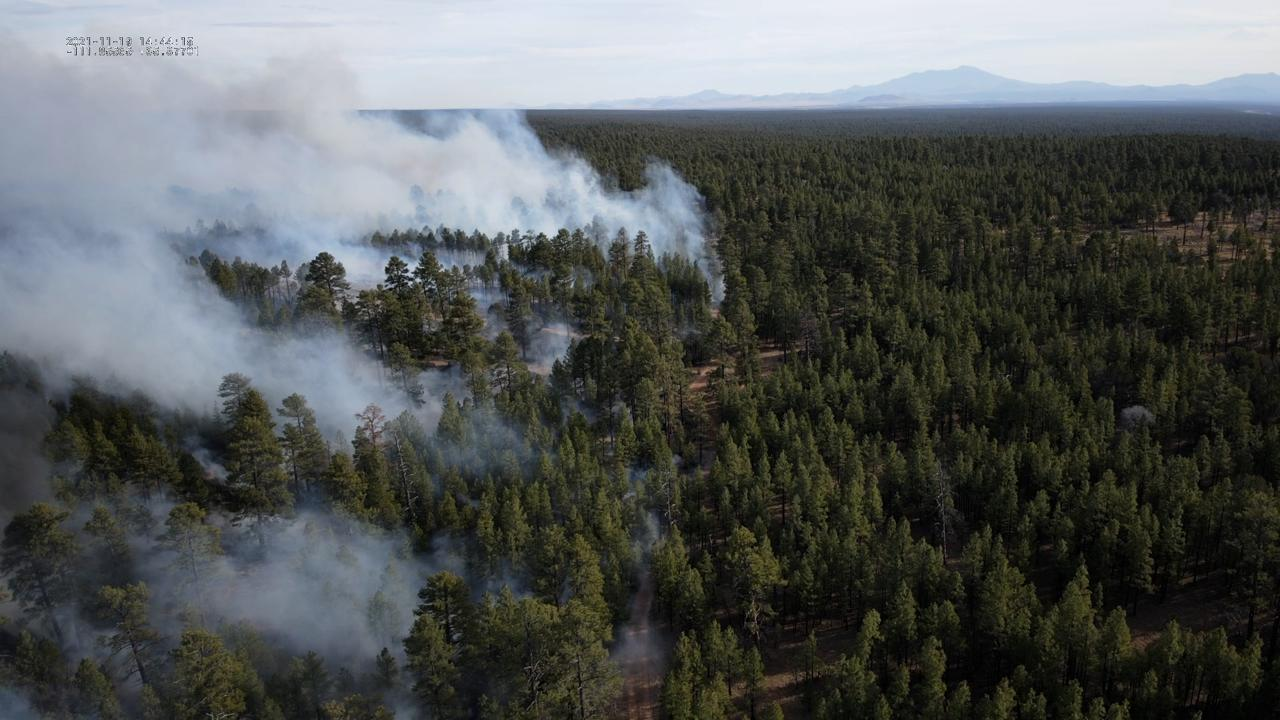smoke: (0, 18, 726, 720)
